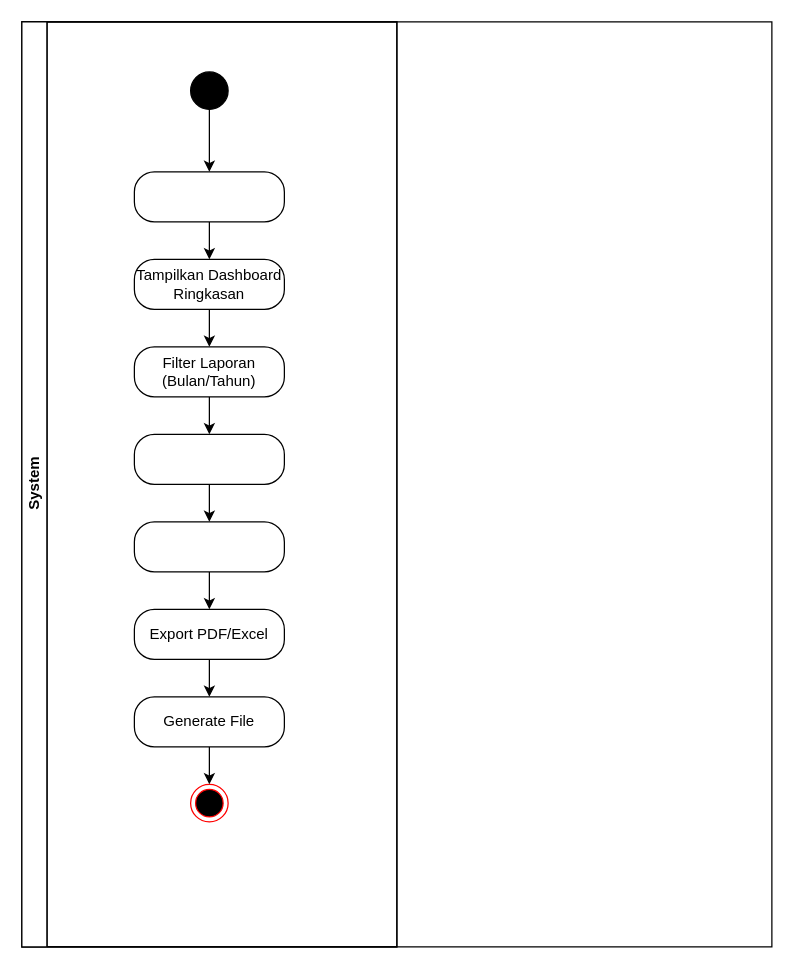
This 794x969 diagram has some shape labels left out. The centre of each missing label's shape, as x and y in pixels:
Kalkulasi Pemasukan/Pengeluaran: the point at 208,458
Login: the point at 208,196
Tampilkan Grafik & Tabel: the point at 208,546
